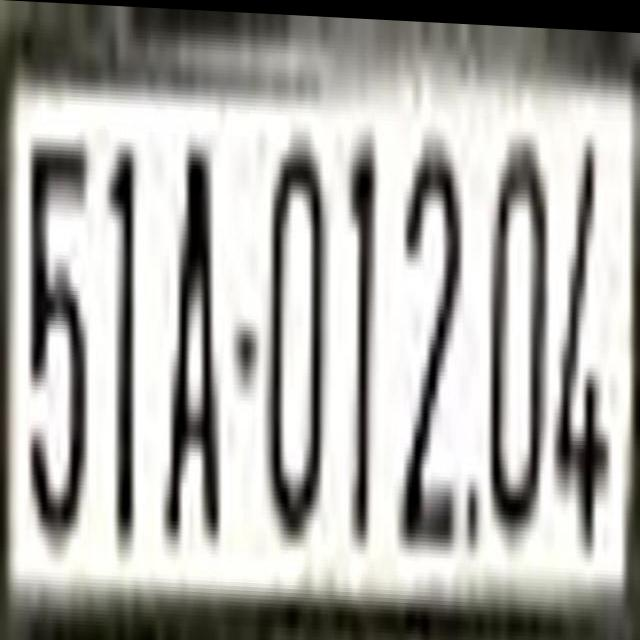0: (486, 113, 546, 515), (265, 127, 320, 545)
1: (104, 117, 139, 568), (348, 142, 380, 551)
2: (394, 125, 466, 546)
4: (554, 112, 612, 560)
5: (27, 110, 87, 543)
A: (159, 118, 222, 556)
